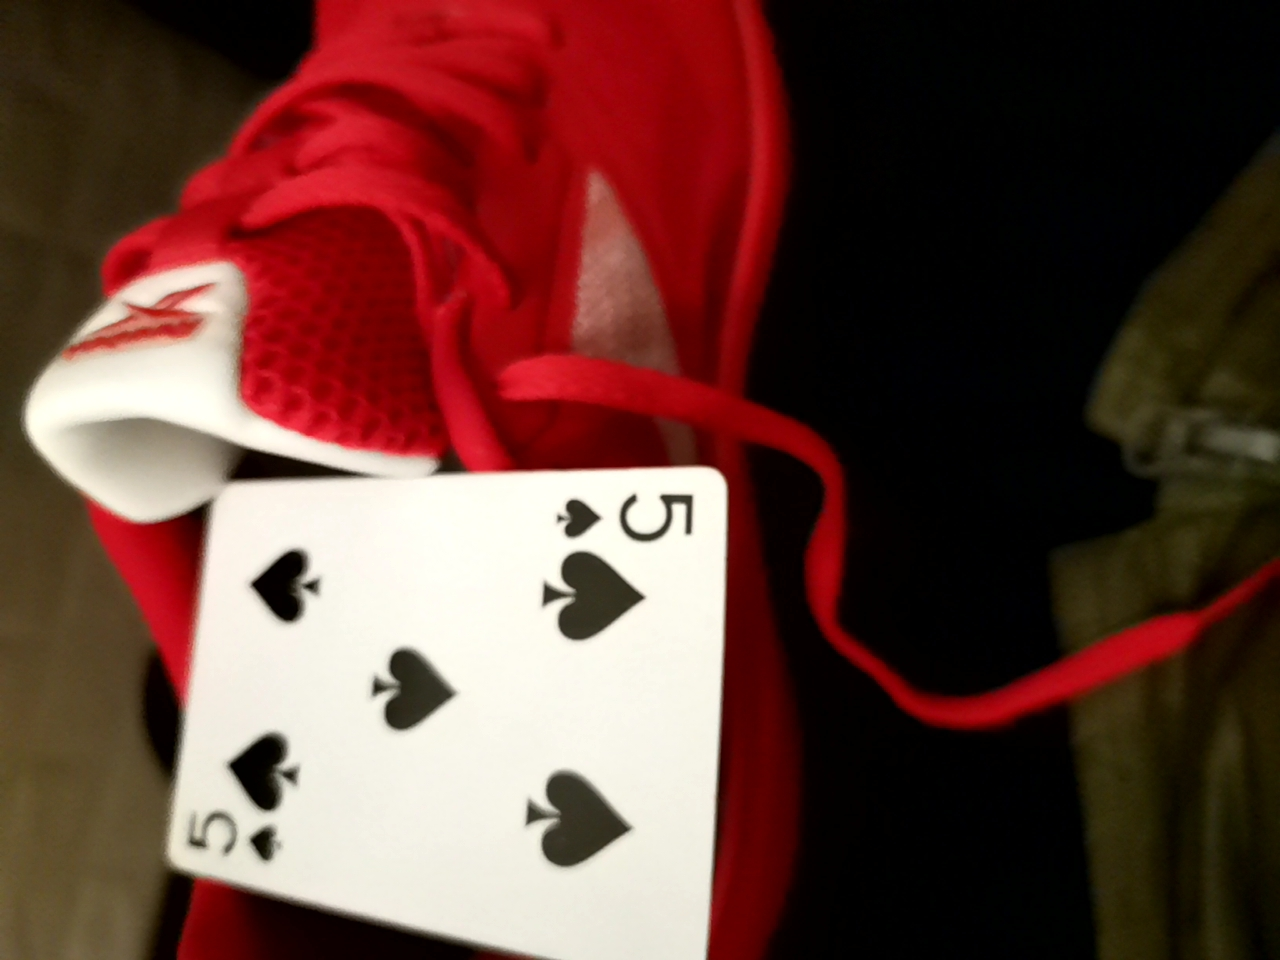ht 5: (161, 448, 752, 953)
